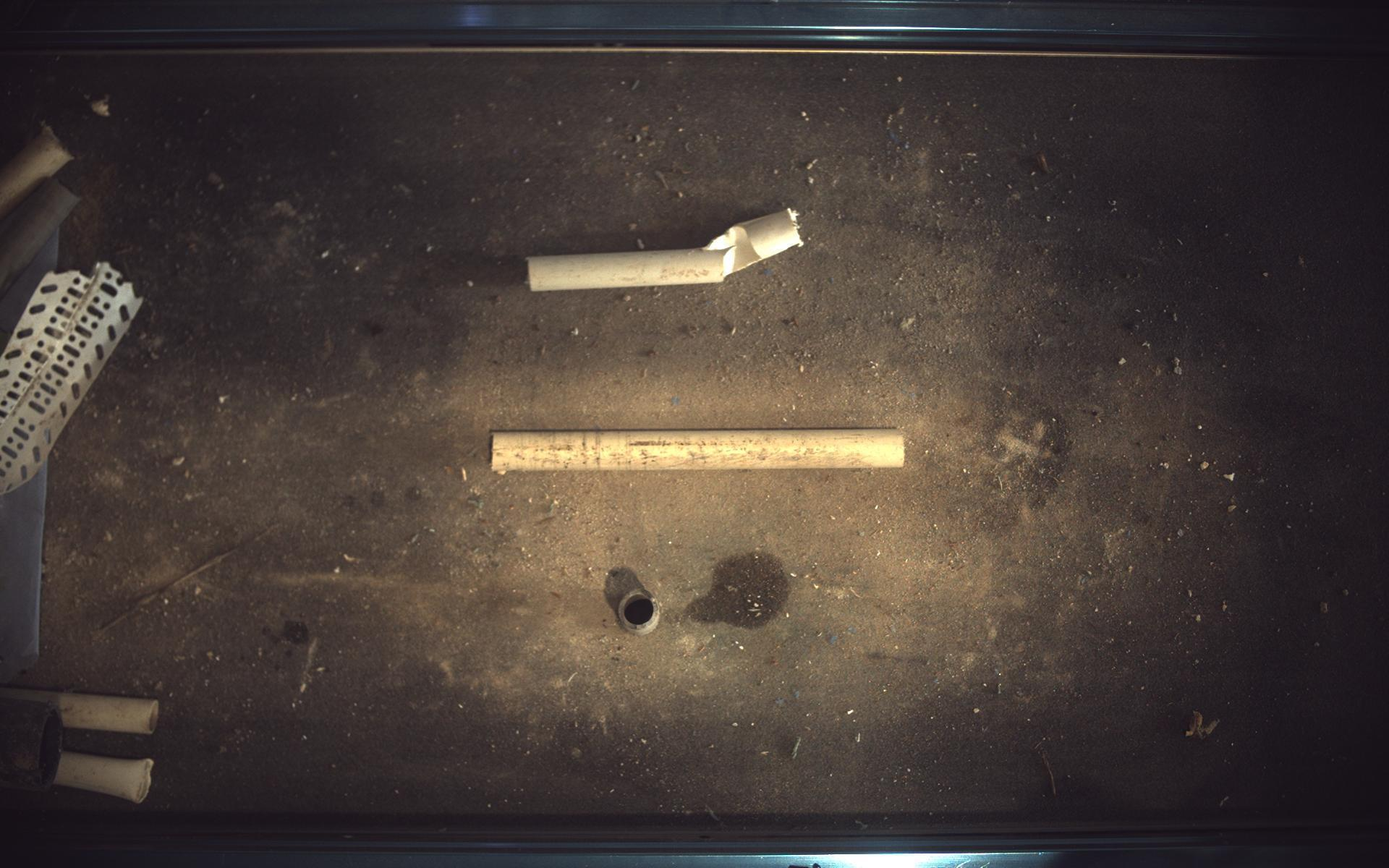pipes: (529, 208, 804, 291), (491, 429, 906, 473), (605, 568, 661, 637)
